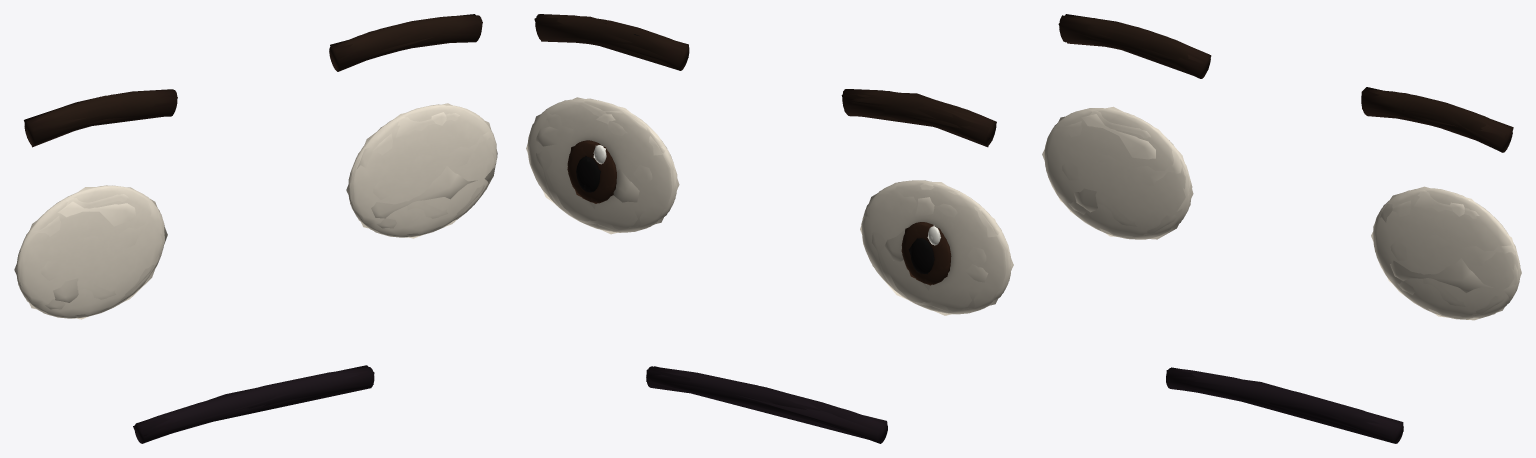
File: determined.glb
3 renders of one model, left to right at view 1: azimuth 30°, elevation 25°; view 2: azimuth 150°, elevation 25°; view 3: azimuth 330°, elevation 25°, orthographic.
Visible parts, largest first — view 1: near, mid, far; view 2: near, mid, far; view 3: near, mid, far.
Boxes of the visible parts, bbox=[...] form: near: bbox=[17, 15, 496, 443]; mid: bbox=[16, 15, 497, 441]; far: bbox=[14, 14, 497, 436]; near: bbox=[527, 14, 1011, 443]; mid: bbox=[527, 15, 1011, 443]; far: bbox=[526, 16, 1013, 439]; near: bbox=[1044, 16, 1520, 443]; mid: bbox=[1044, 15, 1520, 443]; far: bbox=[1042, 14, 1521, 443].
Bounding box in the file's own units: 0.7146 × 0.503 × 0.0557.
6 materials, 6 textured.
